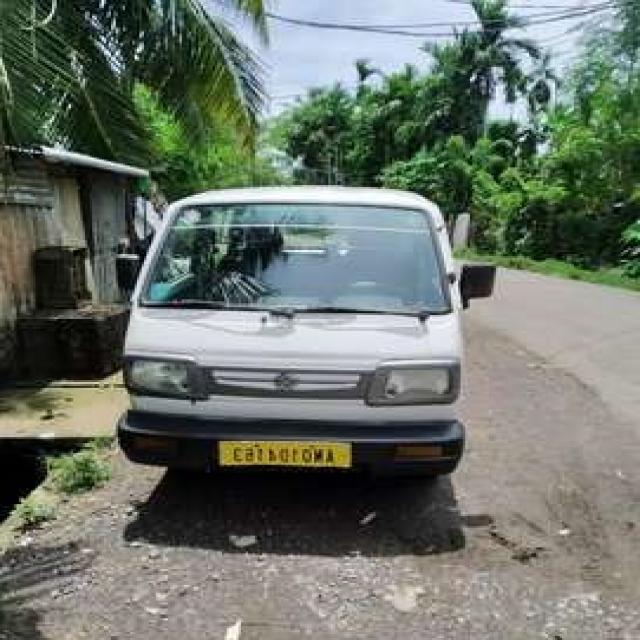license_plate: (215, 435, 355, 474)
